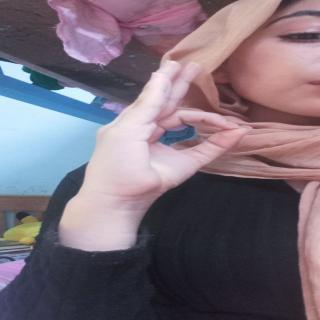Space: (83, 54, 248, 210)
